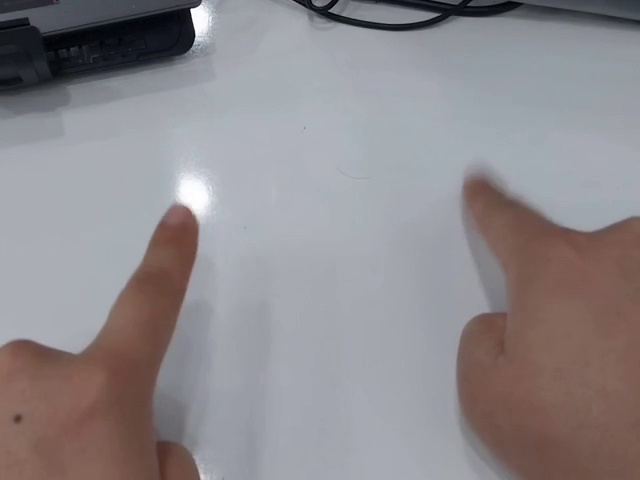fingers: (154, 201, 201, 255), (460, 175, 506, 216)
